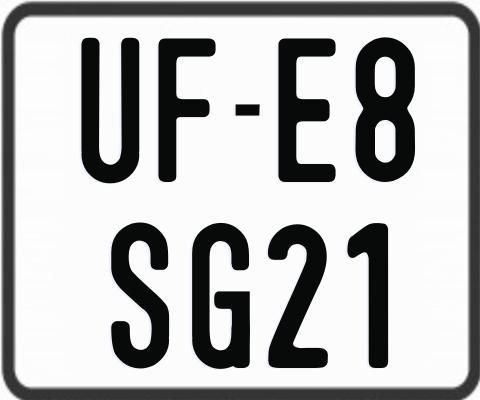1: (344, 220, 389, 368)
2: (268, 222, 330, 371)
8: (352, 35, 417, 185)
E: (277, 35, 338, 181)
F: (155, 35, 213, 179)
G: (189, 222, 251, 374)
S: (108, 219, 170, 365)
U: (80, 37, 138, 183)
